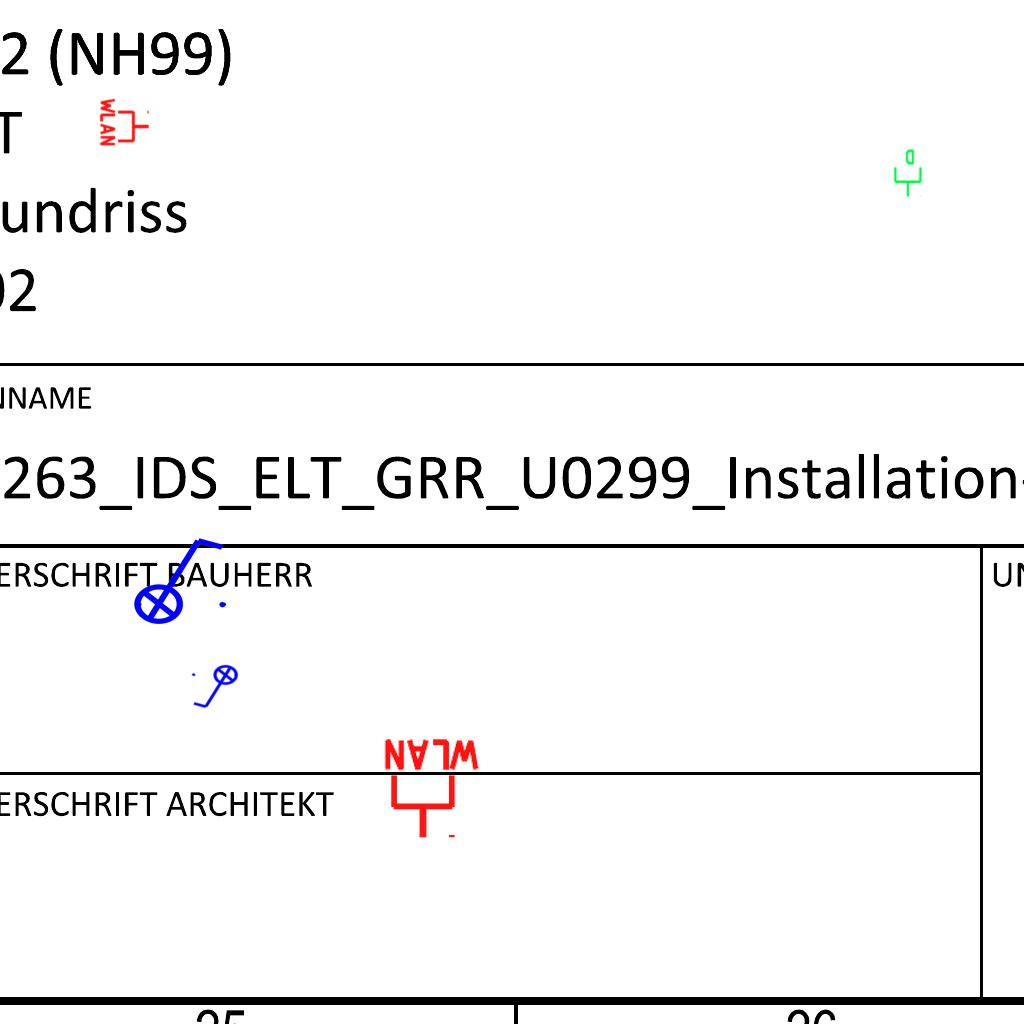Ausschalter_beleuchtet: (120, 530, 232, 626), (189, 664, 245, 712)
Datenanschluss_einfach: (890, 148, 924, 198)
WLAN: (380, 737, 484, 842), (99, 96, 151, 148)
